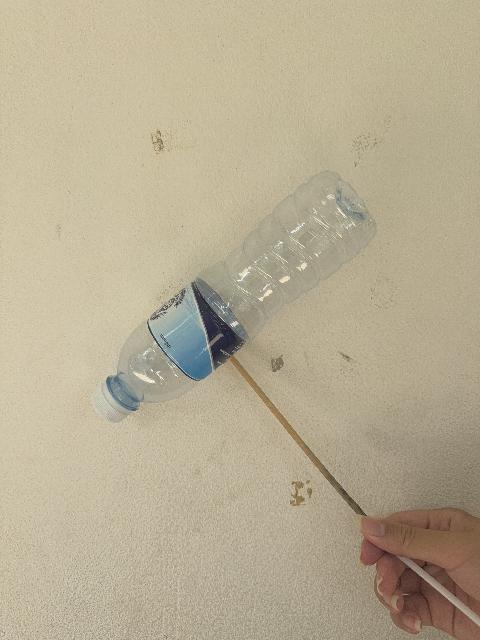bottle: (92, 172, 376, 422)
